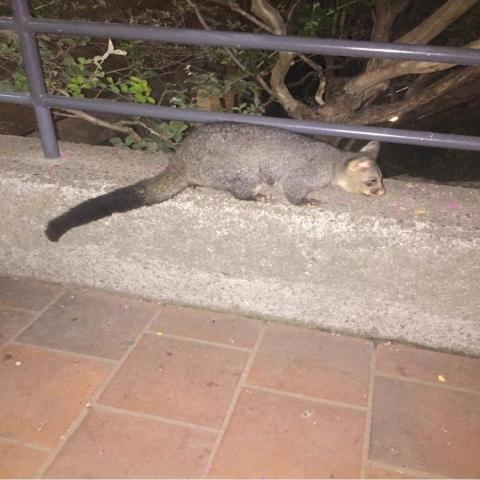small_animal: (44, 120, 389, 242)
